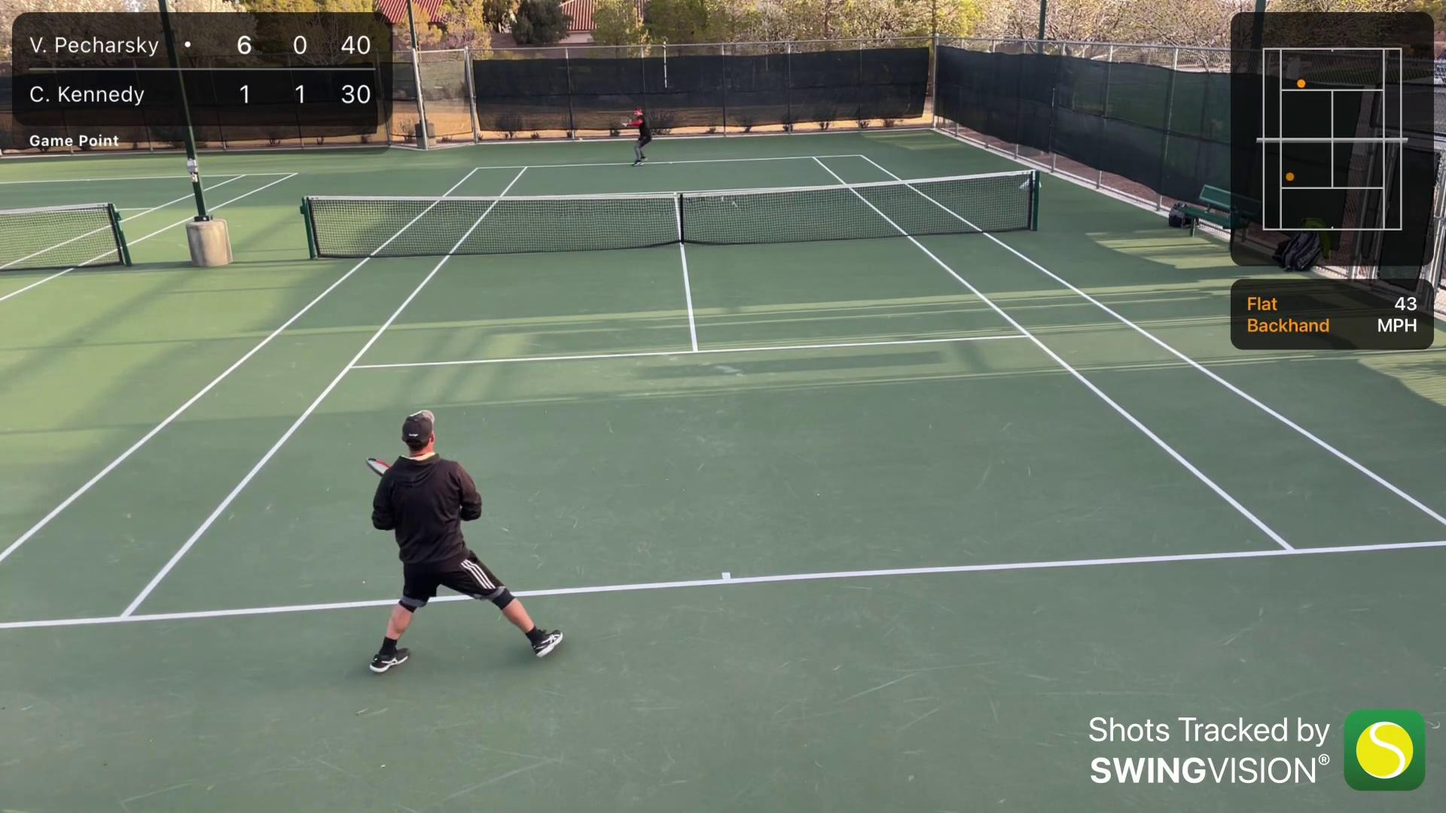ball: (576, 136, 584, 142)
